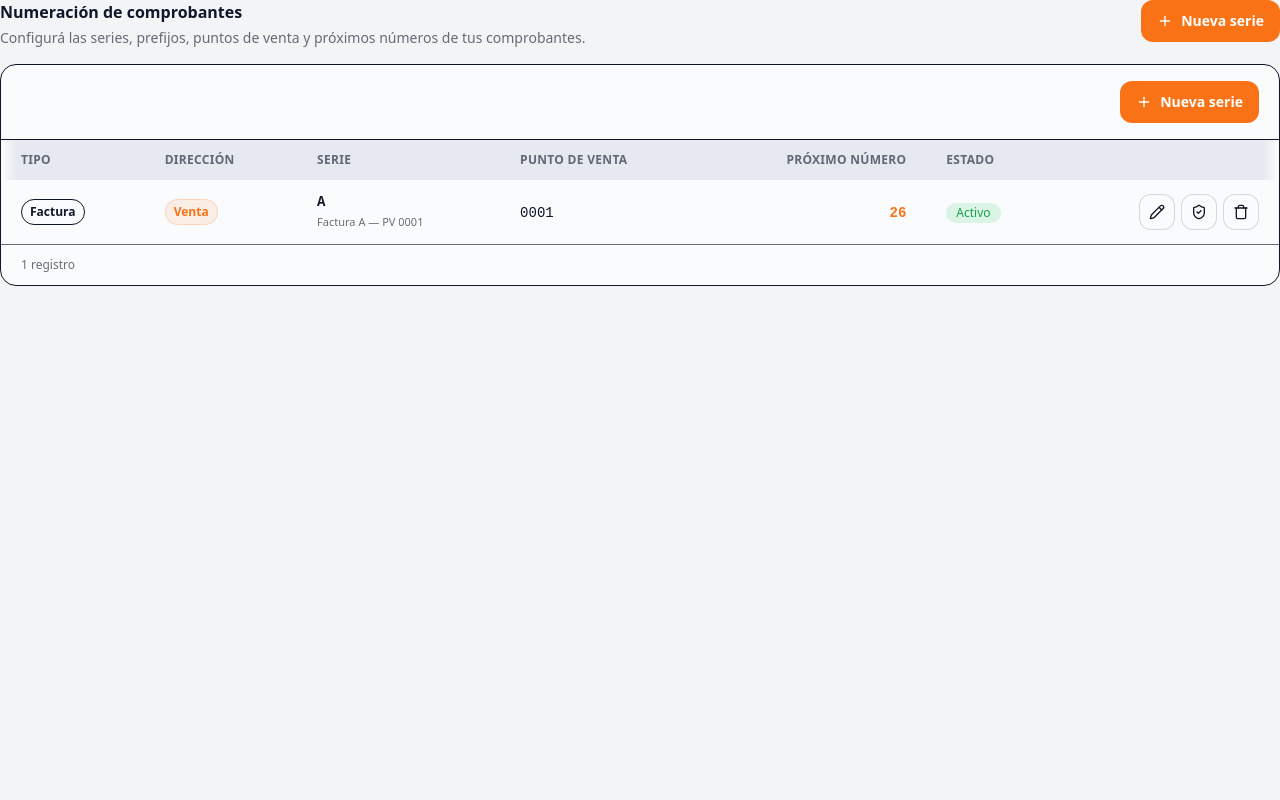
Test: NumeracionAdmin — crear serie › click 'Nueva serie' abre el modal en modo crear
expect the text "Factura" is shown: met, box [21,199,85,225]
Click the button "Nueva serie" in the row of "Numeración de comprobantes": (1211, 21) [1141,0,1279,42]
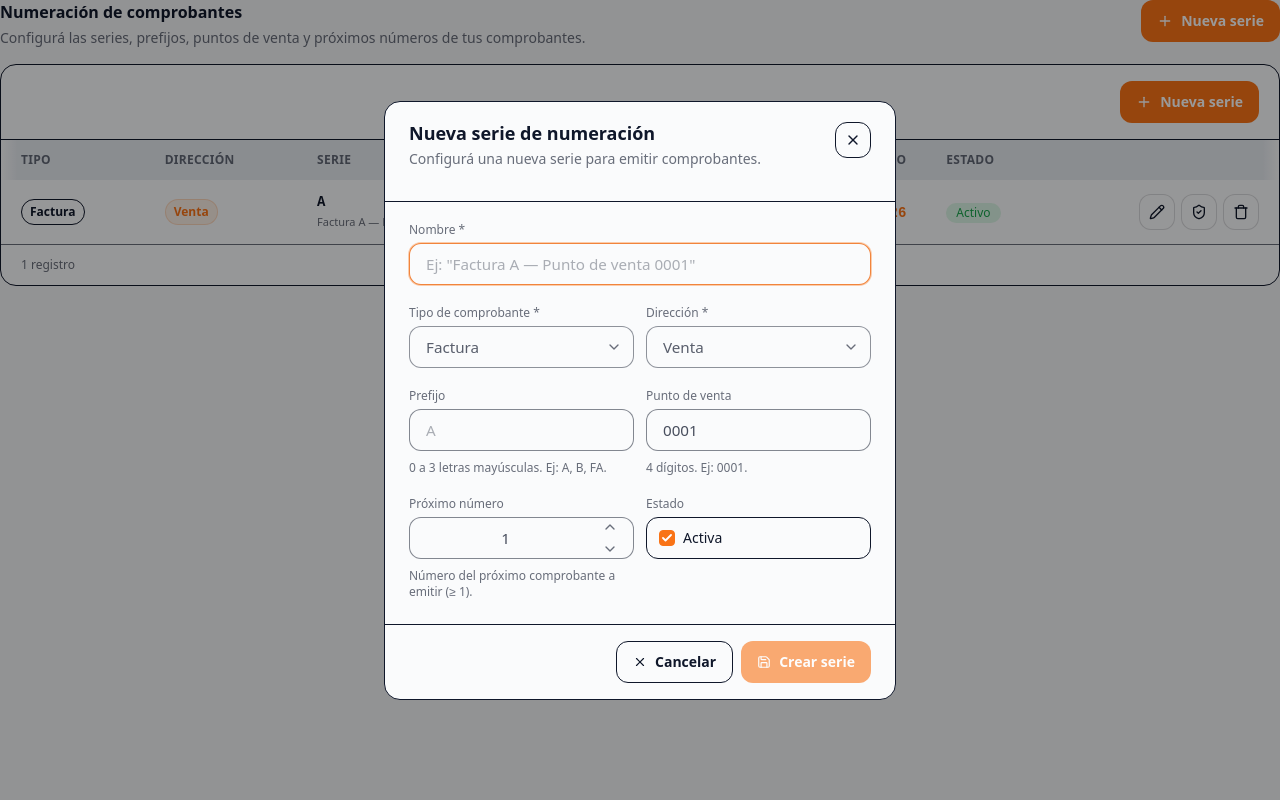
expect the heading "Nueva serie de numeración" is shown: met, box [409,121,655,145]
